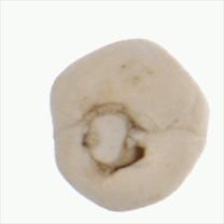L3: (76, 102, 149, 173)
L4: (49, 41, 210, 213)
